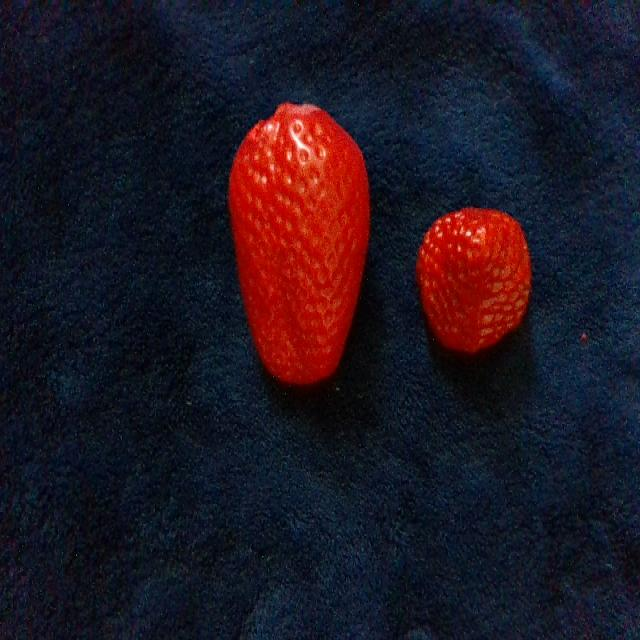chica_roja: (417, 208, 530, 352)
grande_roja: (229, 103, 368, 383)
